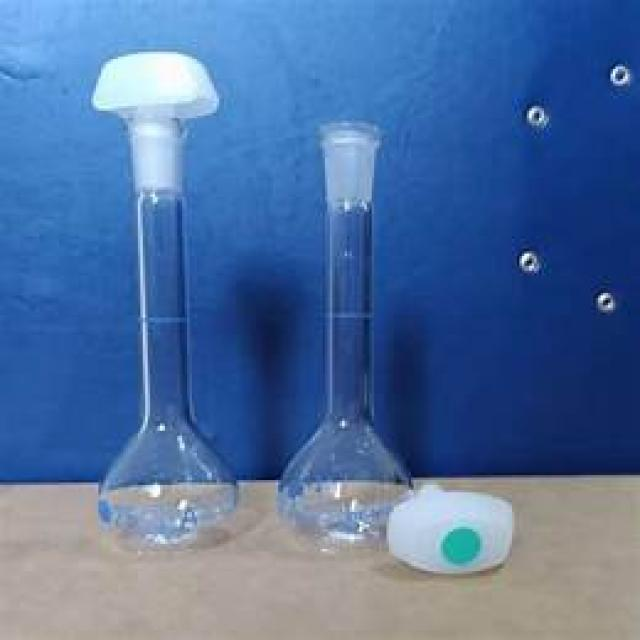Volumetric flask: (71, 36, 243, 547), (276, 112, 415, 551)
